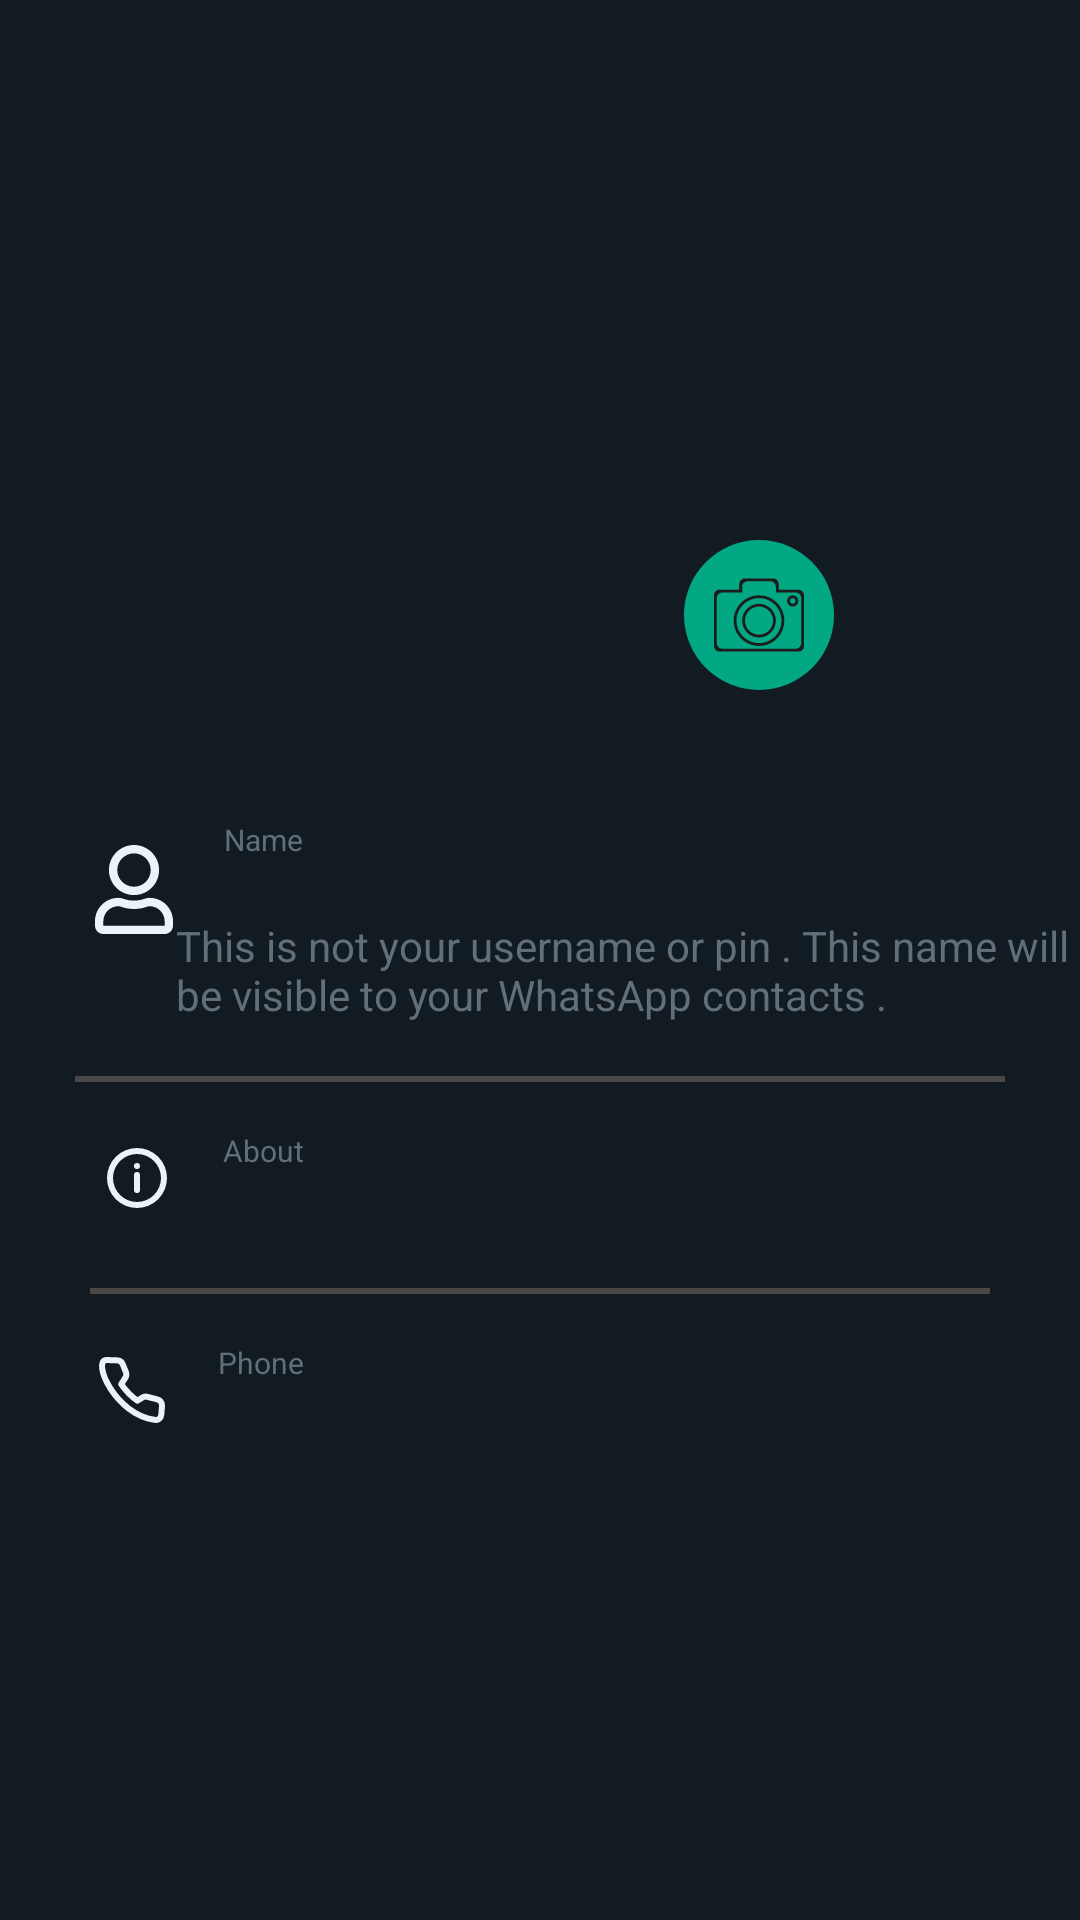

Icons on this 1080px x 1920px Android screen, each with the point to tap as point (x, y):
camera: point (759, 615)
info: point (137, 1178)
